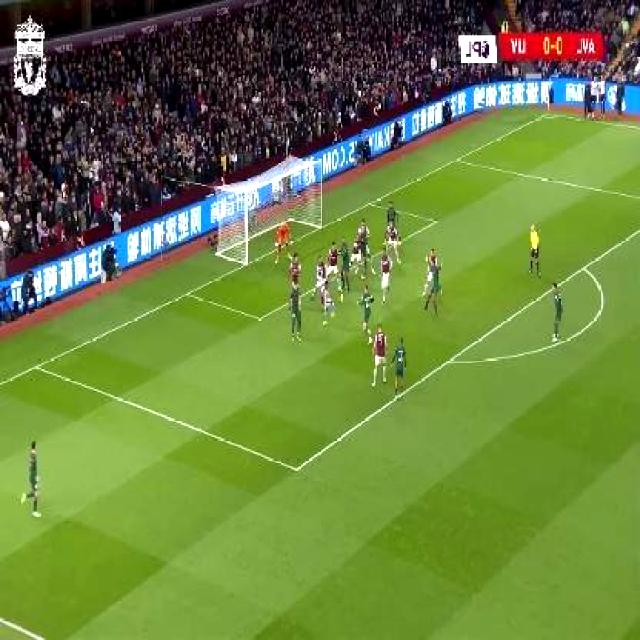bigarea_bottom_inner: (286, 452, 308, 483)
bigarea_bottom_outter: (29, 356, 46, 376)
bigarea_top_outter: (449, 150, 465, 168)
bottom_arc_area_intersection: (440, 349, 457, 371)
corner: (542, 106, 560, 120)
smallarea_bottom_inner: (252, 305, 270, 329)
smallarea_bottom_outter: (180, 282, 197, 302)
smallarea_top_inner: (429, 211, 445, 229)
smallarea_top_outter: (363, 194, 379, 211)
top_arc_area_intersection: (578, 257, 592, 275)
